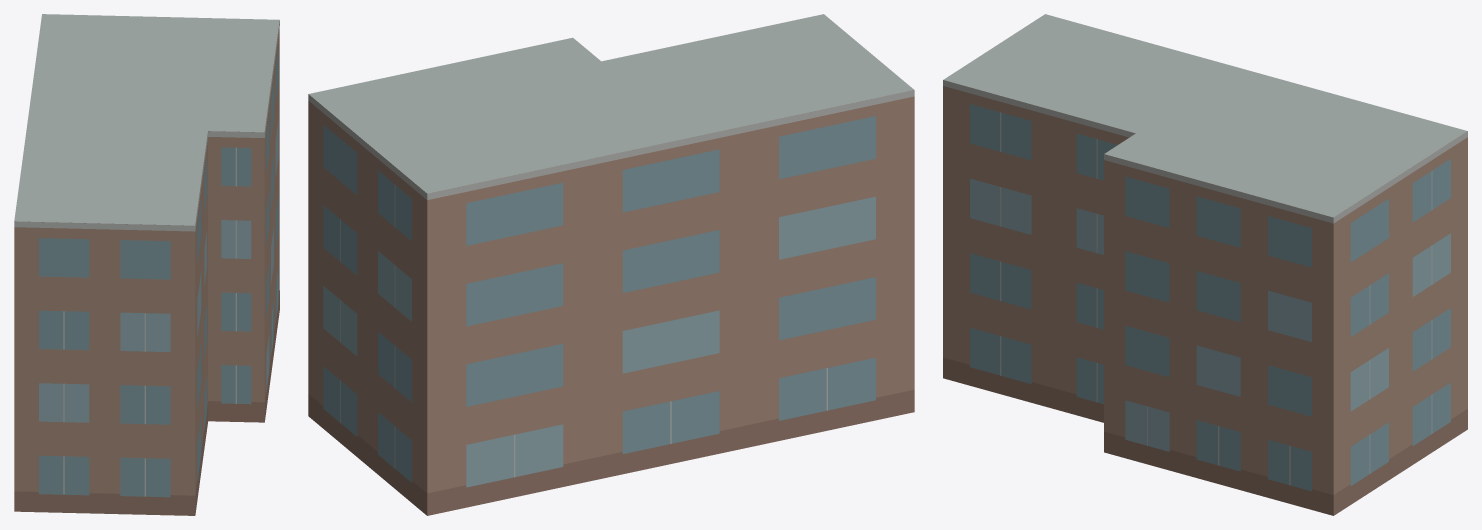
The model's file is residential-62458f2b-726c-4795-9dcd-66502a80343f.glb.
3 views of the same model, side by side, from view 1: azimuth 30°, elevation 25°; view 2: azimuth 150°, elevation 25°; view 3: azimuth 270°, elevation 25° (orthographic). The views are drawn at different scales.
Parts seen in each view (by area): view 1: residential-62458f2b-726c-4795-9dcd-66502a80343f.tmp; view 2: residential-62458f2b-726c-4795-9dcd-66502a80343f.tmp; view 3: residential-62458f2b-726c-4795-9dcd-66502a80343f.tmp.
Part boxes in pixels (x1,y1,x2,y2): residential-62458f2b-726c-4795-9dcd-66502a80343f.tmp: (14, 14, 279, 515); residential-62458f2b-726c-4795-9dcd-66502a80343f.tmp: (308, 14, 914, 515); residential-62458f2b-726c-4795-9dcd-66502a80343f.tmp: (943, 14, 1467, 515).
Size of the model in its own units: 17.86 by 12.2 by 19.46.
